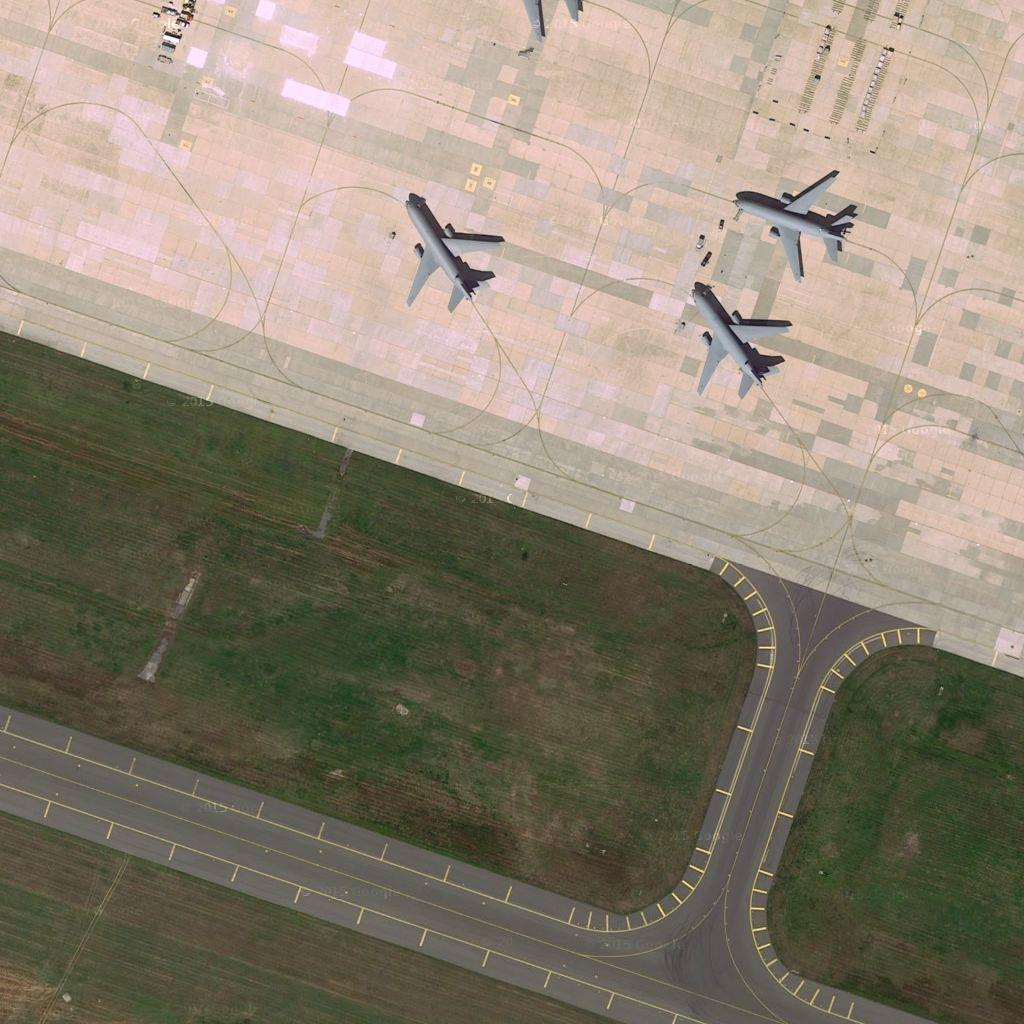KC-10: (726, 163, 862, 283), (394, 193, 514, 315), (680, 275, 794, 403)
